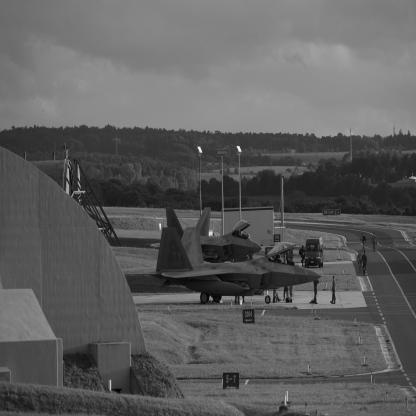F22: (133, 228, 323, 305), (145, 208, 263, 264)
